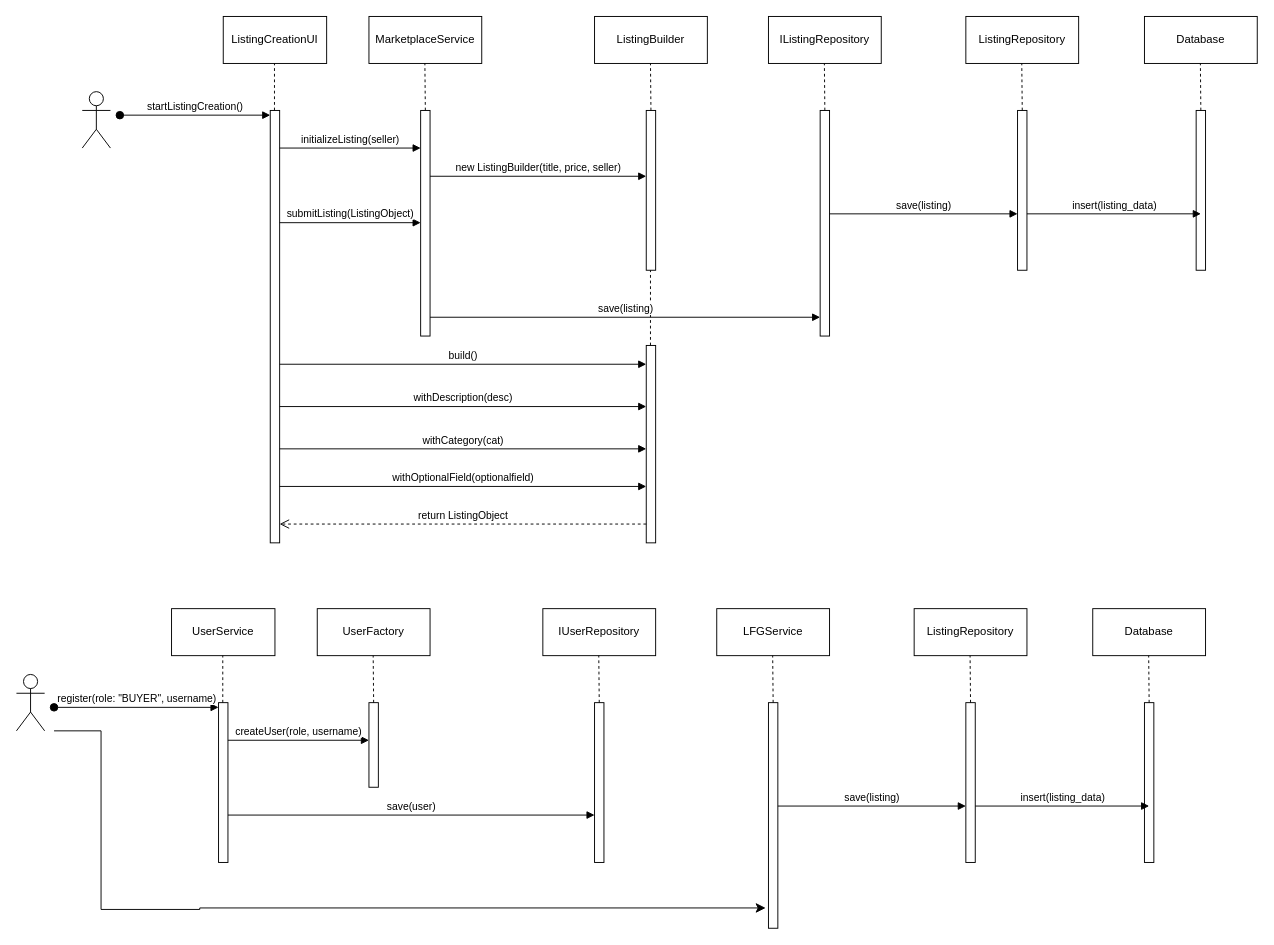
Image size: 1274x945. Some labels were removed from this diagram. The centre of each missing label's shape, as x and y in pixels:
Seller: the point at 95,119
User: the point at 30,702
